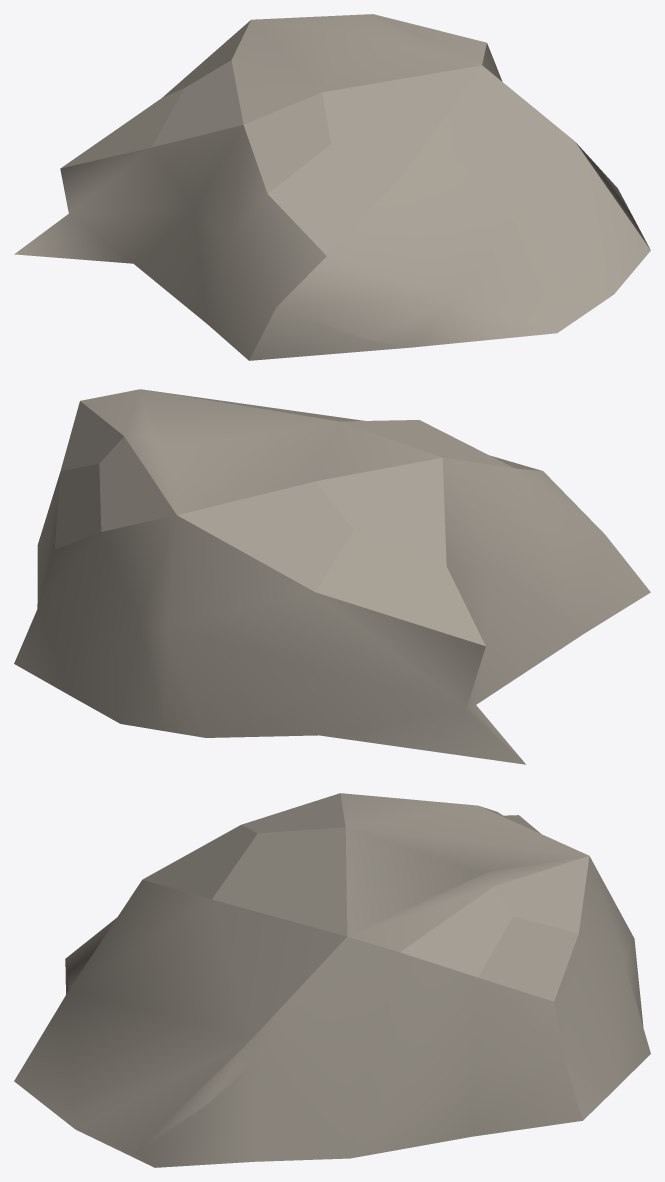
The model's file is SM_pebble_02.fbx.
The picture shows the model from 3 angles, top to bottom: view 1: azimuth 30°, elevation 25°; view 2: azimuth 150°, elevation 25°; view 3: azimuth 270°, elevation 25°; orthographic projection. The views are drawn at different scales.
Visible parts, largest first — view 1: pebble_02; view 2: pebble_02; view 3: pebble_02.
Part boxes in pixels (bbox=[...]): pebble_02: bbox=[14, 14, 650, 360]; pebble_02: bbox=[14, 389, 650, 764]; pebble_02: bbox=[14, 793, 650, 1167].
Size of the model in its own units: 106 by 37.05 by 103.
